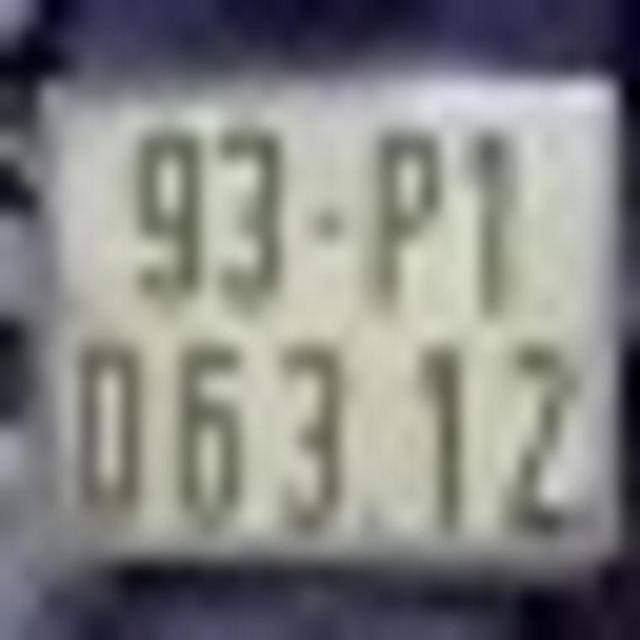0: (72, 336, 148, 517)
1: (418, 346, 473, 538), (468, 122, 520, 320)
2: (511, 325, 577, 530)
3: (282, 349, 351, 546), (223, 120, 284, 312)
6: (171, 344, 239, 526)
9: (137, 121, 202, 297)
P: (376, 122, 442, 313)
